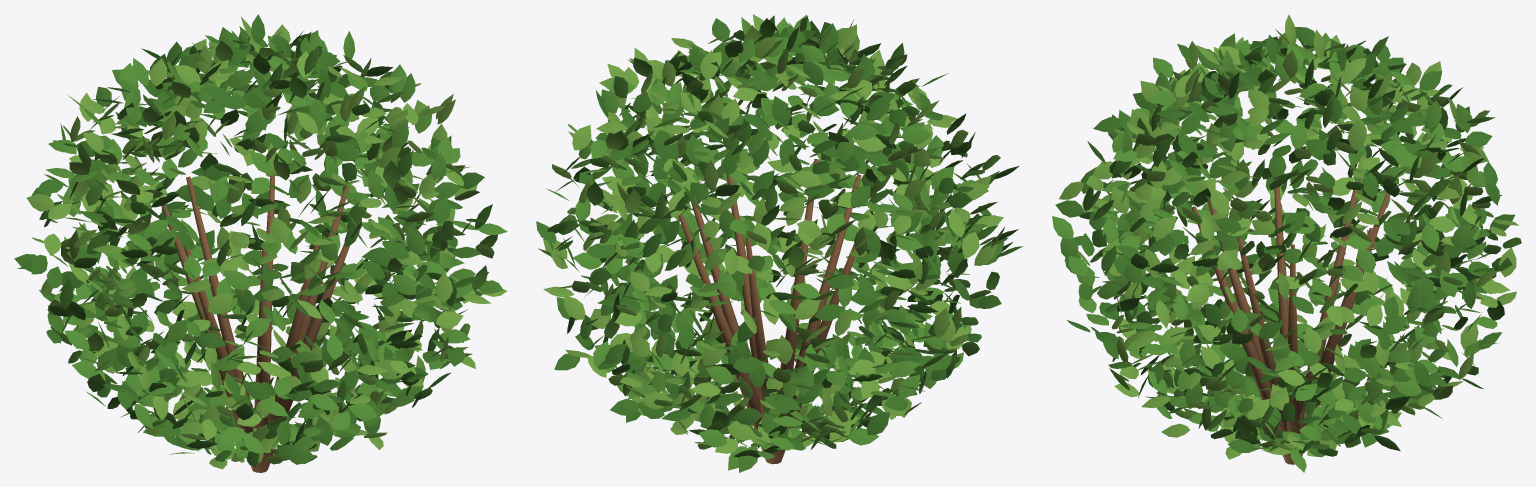
The model's file is shrub.glb.
3 views of the same model, side by side, from view 1: azimuth 30°, elevation 25°; view 2: azimuth 150°, elevation 25°; view 3: azimuth 270°, elevation 25° (orthographic). The views are drawn at different scales.
Parts seen in each view (by area): view 1: Shrub leaves 1, Shrub leaves 2, Shrub leaves 0, Shrub stem; view 2: Shrub leaves 2, Shrub leaves 0, Shrub leaves 1, Shrub stem; view 3: Shrub leaves 2, Shrub leaves 0, Shrub leaves 1, Shrub stem.
Part boxes in pixels (box(x1,y1,x2,y2)): Shrub leaves 1: box(17, 27, 507, 464); Shrub leaves 2: box(26, 17, 506, 469); Shrub leaves 0: box(14, 14, 492, 466); Shrub stem: box(159, 174, 349, 472); Shrub leaves 2: box(543, 14, 1004, 453); Shrub leaves 0: box(536, 15, 1023, 457); Shrub leaves 1: box(538, 14, 1004, 472); Shrub stem: box(678, 159, 861, 464); Shrub leaves 2: box(1059, 14, 1518, 459); Shrub leaves 0: box(1055, 27, 1521, 457); Shrub leaves 1: box(1052, 32, 1502, 472); Shrub stem: box(1191, 177, 1390, 464).
Size of the model in its own units: 1.44 by 1.41 by 1.42.
